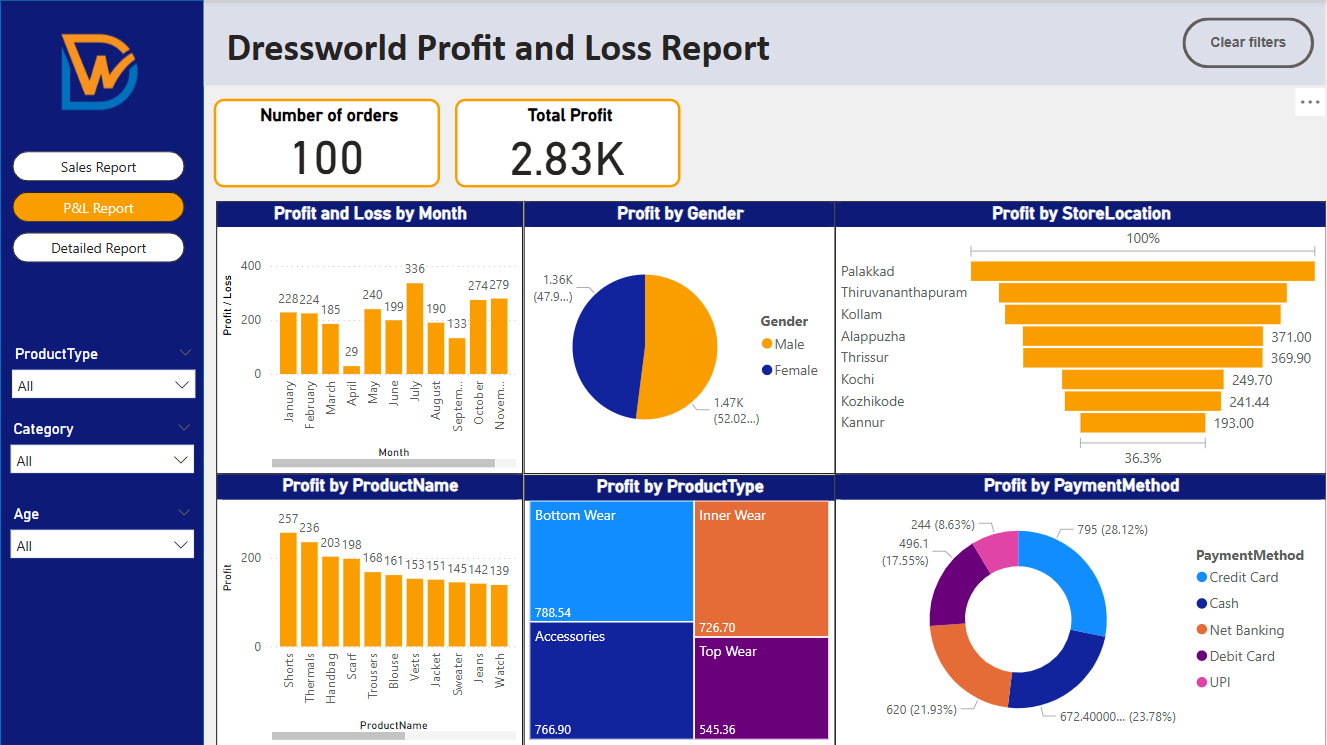

The page's visual inventory and layout, read from the dashboard file:
{"tool":"powerbi","page":{"name":"P&L Report","canvas":[1280,720],"ordinal":1},"visuals":[{"type":"shape","box":[0,0,197,720],"z":0},{"type":"columnChart","title":"Profit and Loss by Month","fields":{"Y":["Sum(dressworld_sales_data_kerala.Profit)"],"Category":["dressworld_sales_data_kerala.Date.Variation.Date Hierarchy.Month"]},"box":[209.1,194.4,295.9,262.9],"z":1000},{"type":"pieChart","title":"Profit by Gender","fields":{"Category":["dressworld_sales_data_kerala.Gender"],"Y":["Sum(dressworld_sales_data_kerala.Profit)"]},"box":[505,194.4,300.8,262.9],"z":2000},{"type":"treemap","title":"Profit by ProductType","fields":{"Group":["dressworld_sales_data_kerala.ProductType"],"Values":["Sum(dressworld_sales_data_kerala.Profit)"]},"box":[505,458.6,300.8,261.7],"z":3000},{"type":"columnChart","title":"Profit by ProductName","fields":{"Y":["Sum(dressworld_sales_data_kerala.Profit)"],"Category":["dressworld_sales_data_kerala.ProductName"]},"box":[209.1,457.3,295.9,262.9],"z":4000},{"type":"funnel","title":"Profit by StoreLocation","fields":{"Category":["dressworld_sales_data_kerala.StoreLocation"],"Y":["Sum(dressworld_sales_data_kerala.Profit)"]},"box":[805.8,194.4,474.5,262.9],"z":5000},{"type":"donutChart","title":"Profit by PaymentMethod","fields":{"Y":["Sum(dressworld_sales_data_kerala.Profit)"],"Category":["dressworld_sales_data_kerala.PaymentMethod"]},"box":[805.8,457.3,474.5,262.9],"z":6000},{"type":"textbox","box":[196.6,0,1083.4,83.2],"z":7000},{"type":"actionButton","title":"Clear filters","box":[1141,17,127,49],"z":9000},{"type":"card","title":"Total Profit","fields":{"Values":["Sum(dressworld_sales_data_kerala.Profit)"]},"box":[439,95.4,217.7,85.6],"z":10000},{"type":"slicer","title":"Product type","fields":{"Values":["dressworld_sales_data_kerala.ProductType"]},"box":[1.2,327.7,196.9,73.4],"z":11000},{"type":"slicer","fields":{"Values":["dressworld_sales_data_kerala.Category"]},"box":[0,401.1,196.9,72.1],"z":12000},{"type":"slicer","fields":{"Values":["dressworld_sales_data_kerala.Age"]},"box":[0,483,196.9,68.5],"z":13000},{"type":"pageNavigator","box":[12,146,166,109],"z":14000},{"type":"card","title":"Number of orders","fields":{"Values":["CountNonNull(dressworld_sales_data_kerala.OrderID)"]},"box":[206.7,95.5,218.1,85.5],"z":15000},{"type":"actionButton","box":[22.8,12.8,146.8,112.6],"z":15001}]}

Visuals, with their boxes in screenshot pixels (x1, y1, x2, y2), scaled from the page's 1280x720 canvas onto the 1327x745 screenshot:
shape: locate(0, 0, 204, 744)
"Profit and Loss by Month" columnChart: locate(217, 201, 524, 473)
"Profit by Gender" pieChart: locate(524, 201, 835, 473)
"Profit by ProductType" treemap: locate(524, 475, 835, 744)
"Profit by ProductName" columnChart: locate(217, 473, 524, 744)
"Profit by StoreLocation" funnel: locate(835, 201, 1326, 473)
"Profit by PaymentMethod" donutChart: locate(835, 473, 1326, 744)
textbox: locate(204, 0, 1326, 86)
"Clear filters" actionButton: locate(1183, 18, 1315, 68)
"Total Profit" card: locate(455, 99, 681, 187)
"Product type" slicer: locate(1, 339, 205, 415)
slicer - dressworld_sales_data_kerala.Category: locate(0, 415, 204, 490)
slicer - dressworld_sales_data_kerala.Age: locate(0, 500, 204, 571)
pageNavigator: locate(12, 151, 185, 264)
"Number of orders" card: locate(214, 99, 440, 187)
actionButton: locate(24, 13, 176, 130)
